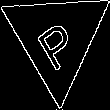P_NW: (30, 8, 83, 70)
